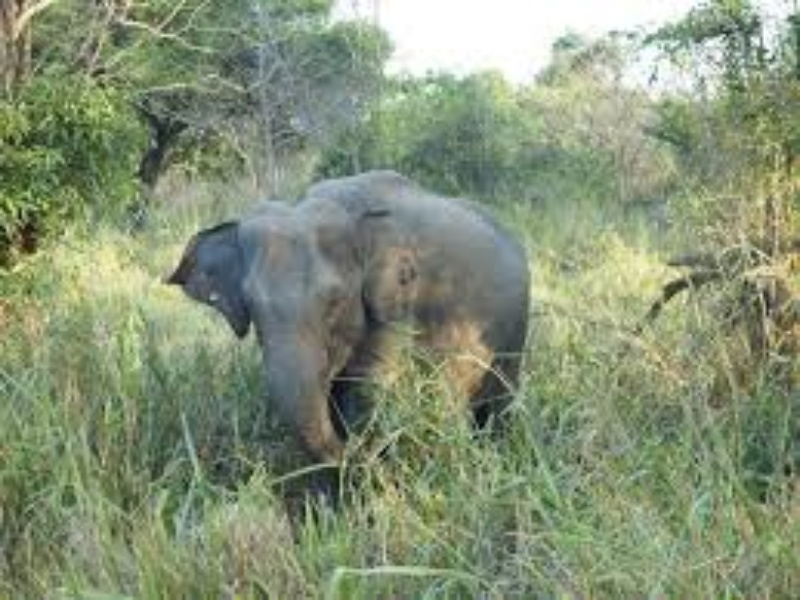elephant: (143, 144, 557, 510)
